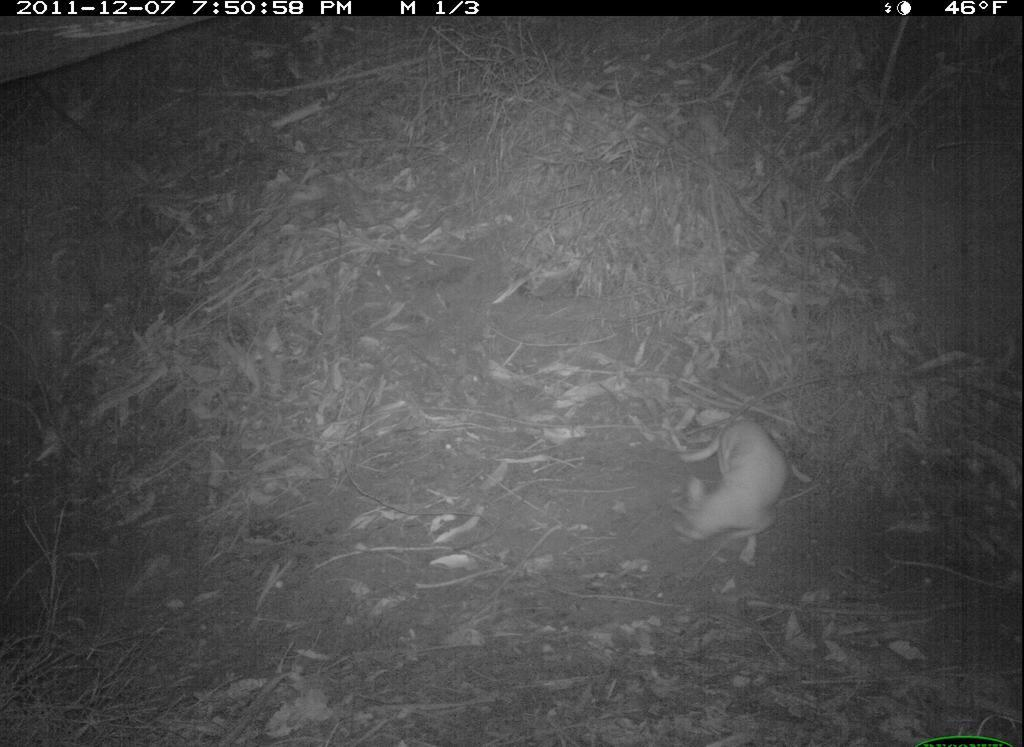dog: (669, 410, 804, 570)
